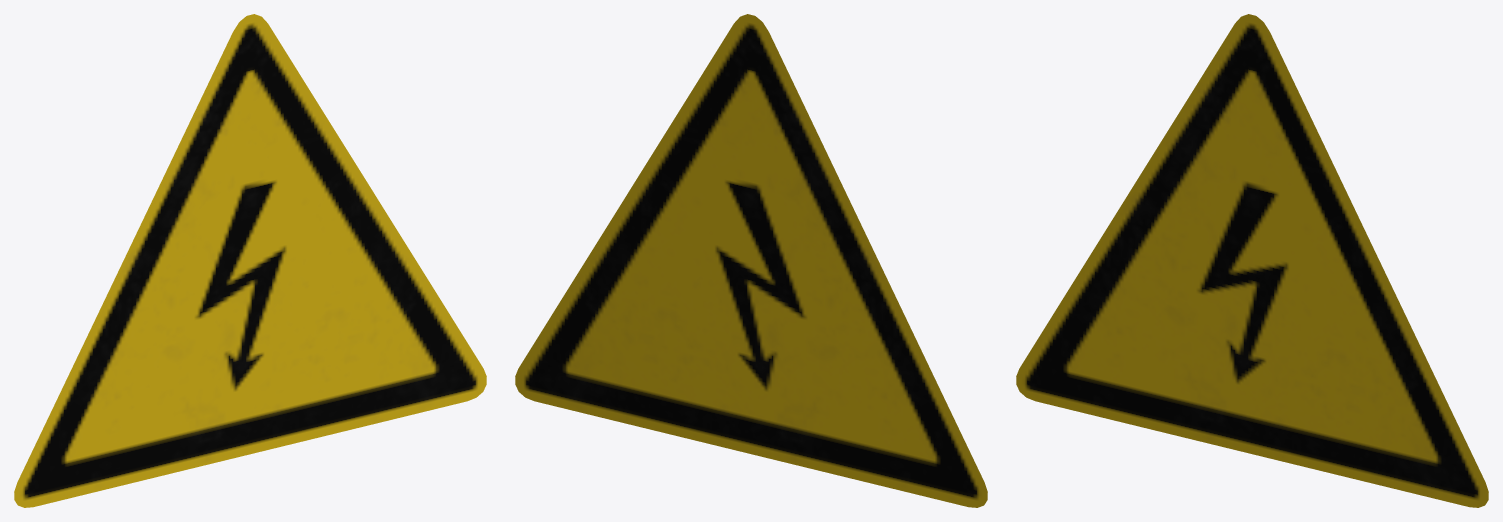
Rendered from SM05_Decals_SafetySign_ElectricalHazard.fbx.
The picture shows the model from 3 angles, left to right: view 1: azimuth 30°, elevation 25°; view 2: azimuth 150°, elevation 25°; view 3: azimuth 330°, elevation 25°; orthographic projection.
Visible parts, largest first — view 1: SM05_Decals_SafetySign_ElectricalHazard; view 2: SM05_Decals_SafetySign_ElectricalHazard; view 3: SM05_Decals_SafetySign_ElectricalHazard.
Part boxes in pixels (x1,y1,x2,y2): SM05_Decals_SafetySign_ElectricalHazard: [14, 14, 486, 507]; SM05_Decals_SafetySign_ElectricalHazard: [515, 14, 987, 507]; SM05_Decals_SafetySign_ElectricalHazard: [1016, 14, 1488, 507].
Bounding box in the file's own units: 0.3632 × 0.3226 × 5.26e-08.
